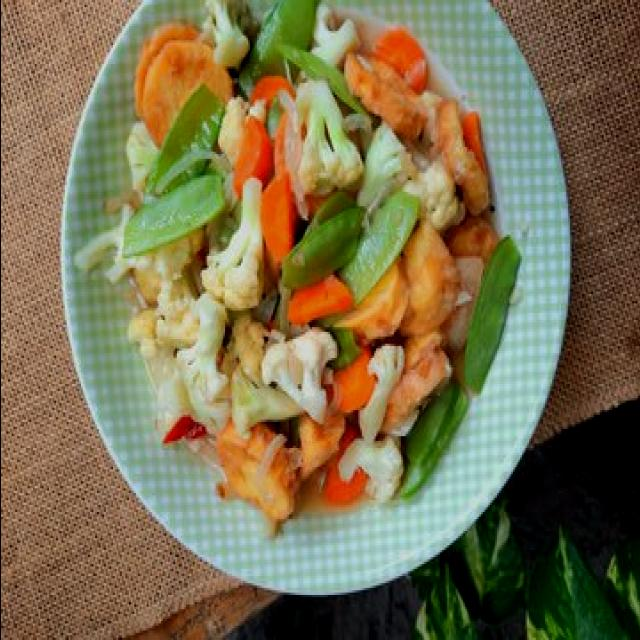capcay: (78, 0, 523, 524)
